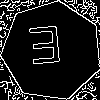E: (26, 26, 65, 74)
